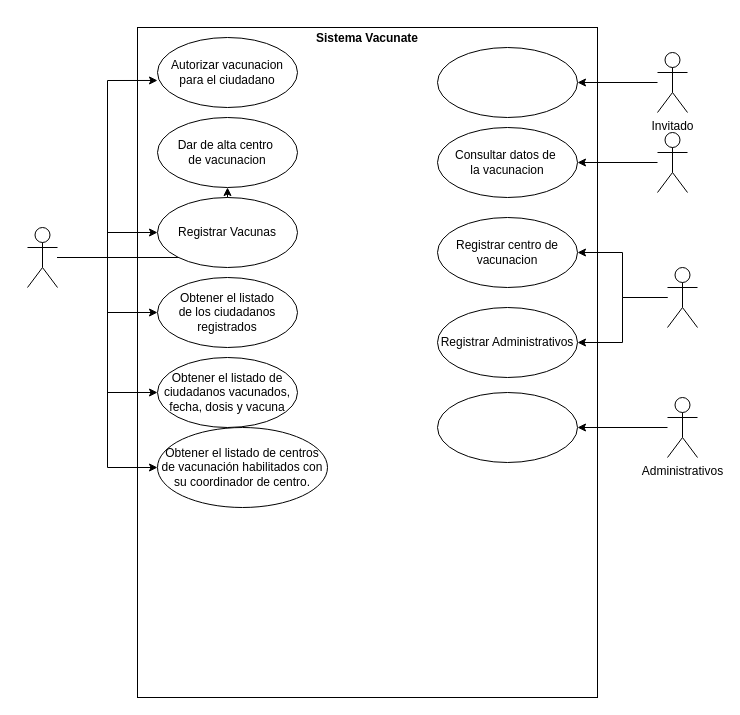
Some shapes in this 740 by 715 pixel diagram are drawn without their labels. Each missing label, with the centre of its shape:
Aplicacion de la vacuna: [507,427]
Autoridad Sanitaria: [42,257]
Ciudadano: [672,162]
Coordinadores de centro: [682,297]
registrarse en el sistema: [507,82]
